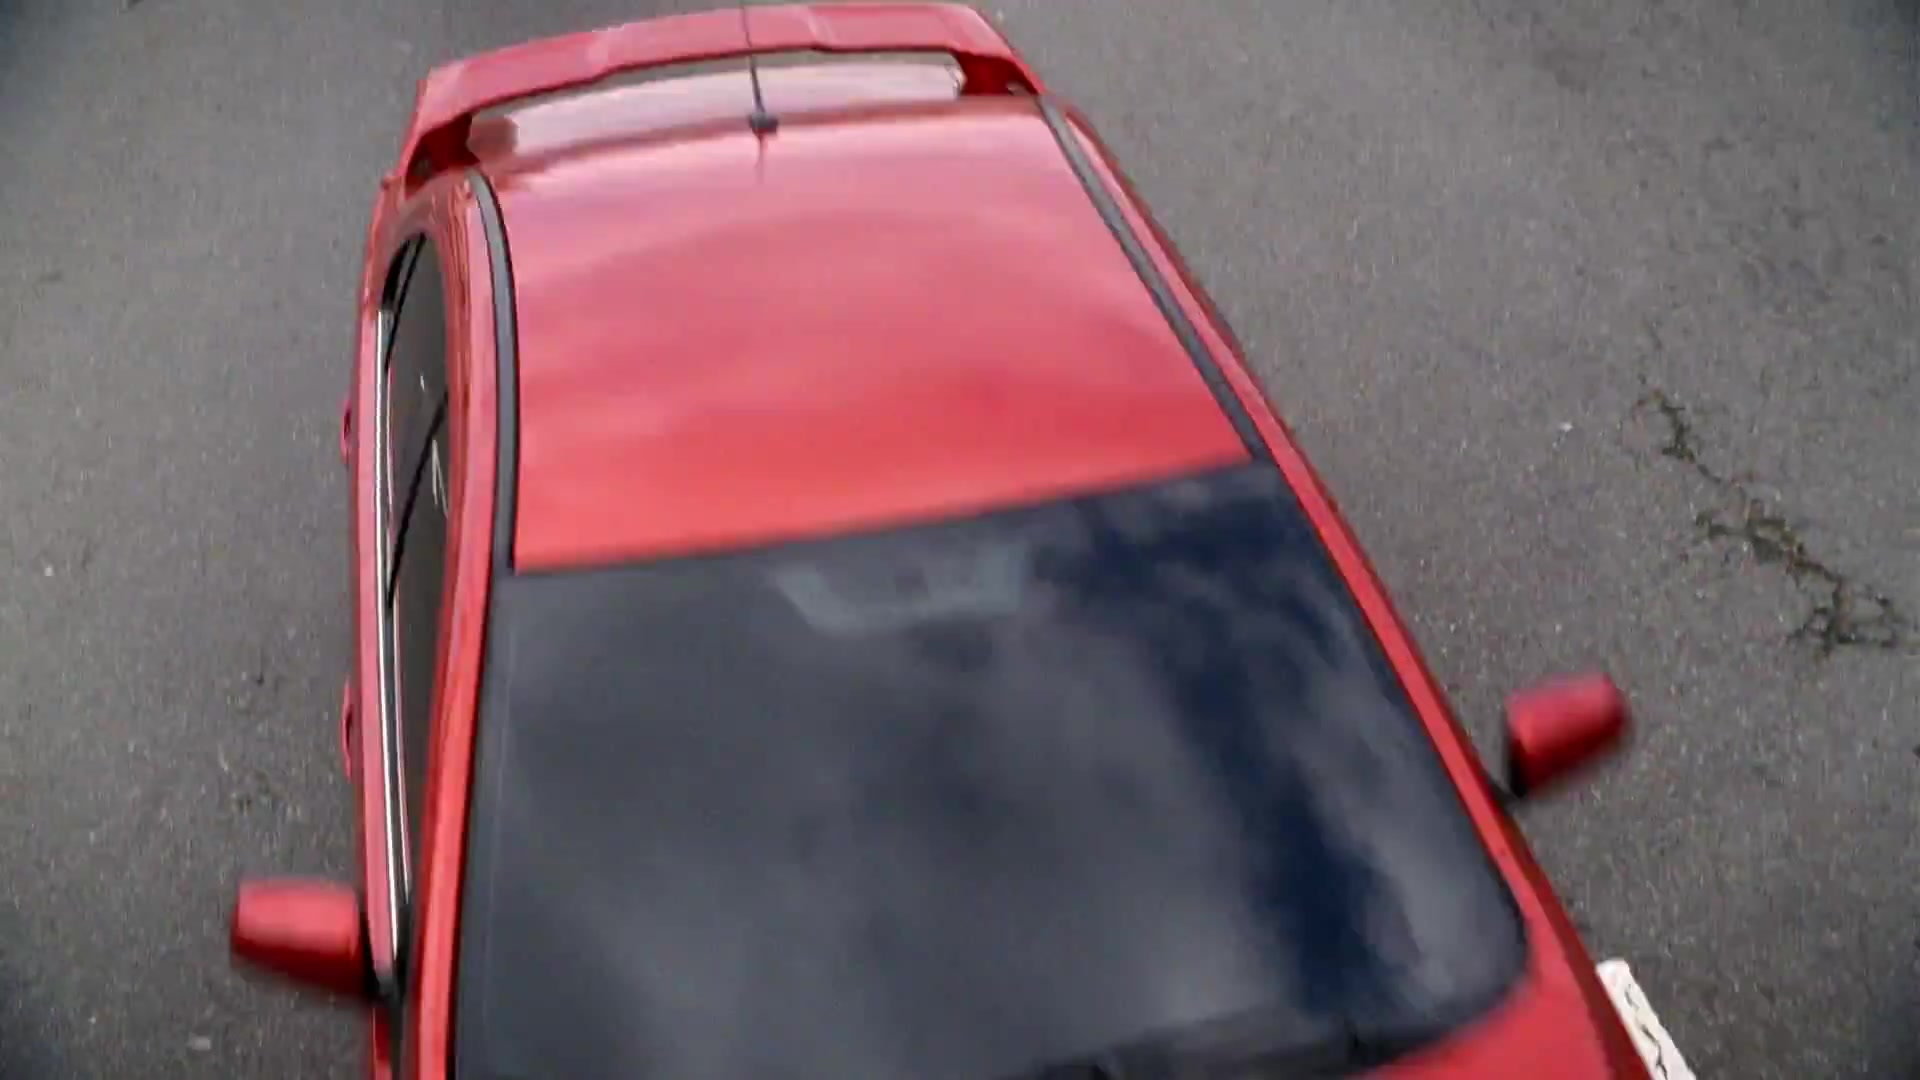car: (222, 5, 1673, 1080)
